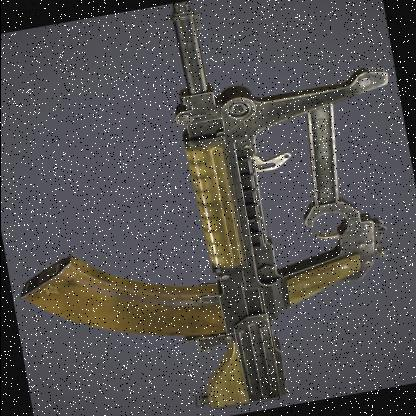rifle: (31, 0, 392, 416)
